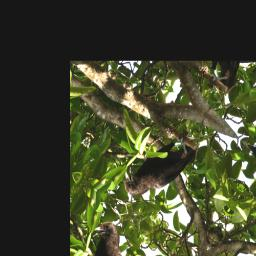Crow: (116, 114, 202, 220)
